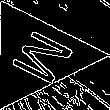M_SE: (0, 22, 75, 88)
